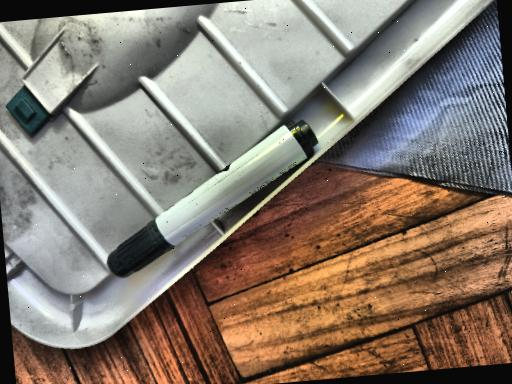marcador negro: (107, 119, 317, 276)
